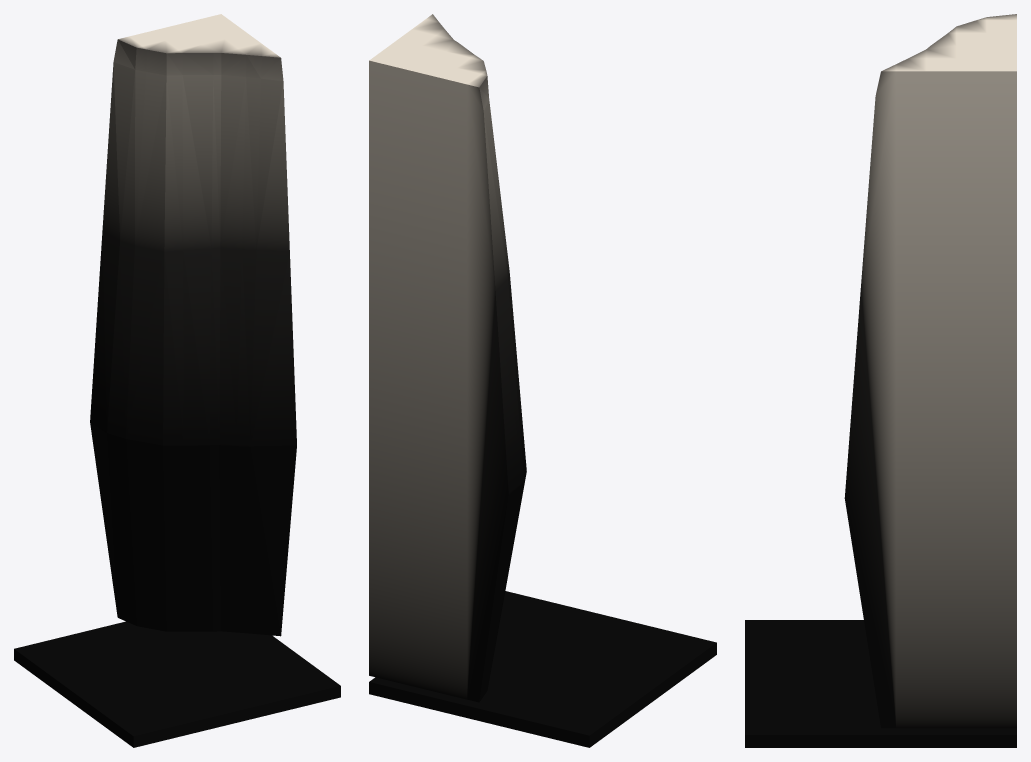
File: SM_VKI_Ground_Cave_XXOX_Q01.fbx
The picture shows the model from 3 angles, left to right: view 1: azimuth 30°, elevation 25°; view 2: azimuth 150°, elevation 25°; view 3: azimuth 270°, elevation 25°; orthographic projection. The views are drawn at different scales.
Parts seen in each view (by area): view 1: SM_VKI_Ground_Cave_XXOX_Q01.001; view 2: SM_VKI_Ground_Cave_XXOX_Q01.001; view 3: SM_VKI_Ground_Cave_XXOX_Q01.001.
Part boxes in pixels (x1,y1,x2,y2): SM_VKI_Ground_Cave_XXOX_Q01.001: [14, 14, 340, 747]; SM_VKI_Ground_Cave_XXOX_Q01.001: [369, 14, 716, 747]; SM_VKI_Ground_Cave_XXOX_Q01.001: [745, 14, 1016, 747].
Bounding box in the file's own units: 1.5 × 4.12 × 1.5.
